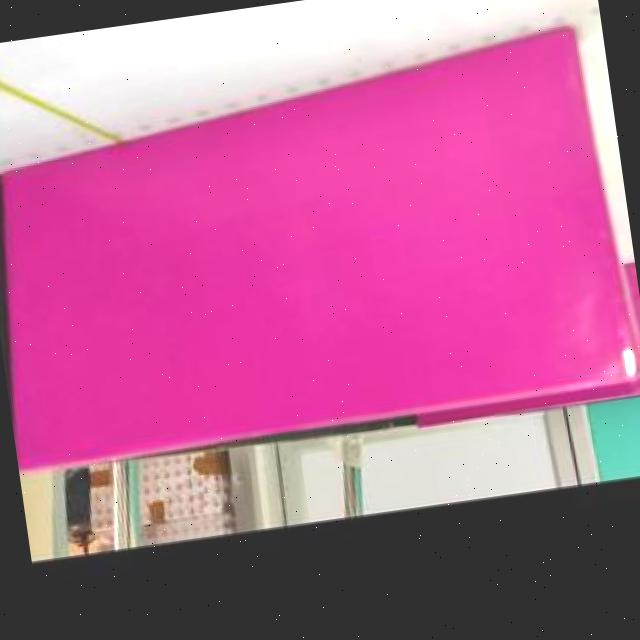xparking: (0, 25, 631, 469)
